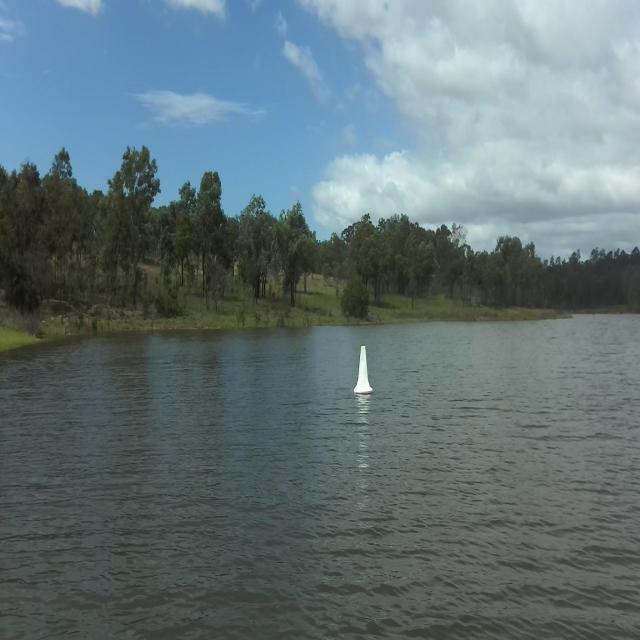White_Buoy: (358, 342, 377, 396)
